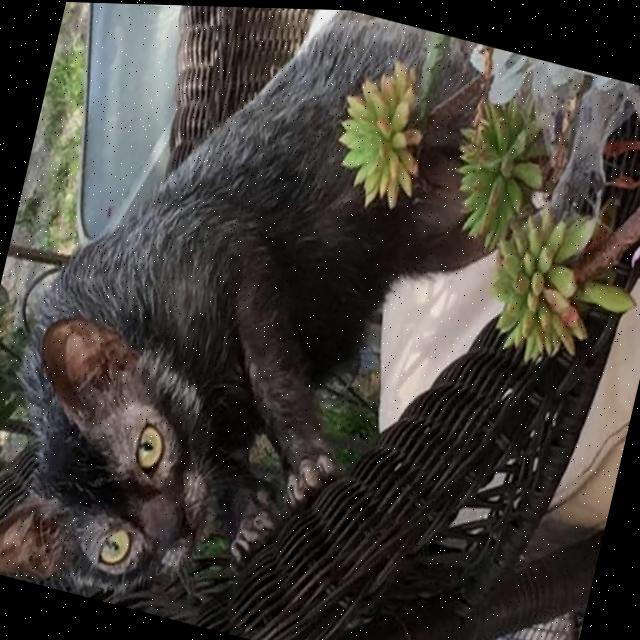Lykoi: (0, 0, 562, 640)
